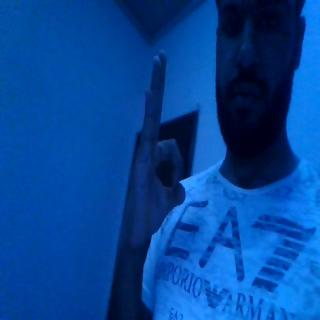Space: (116, 43, 188, 248)
